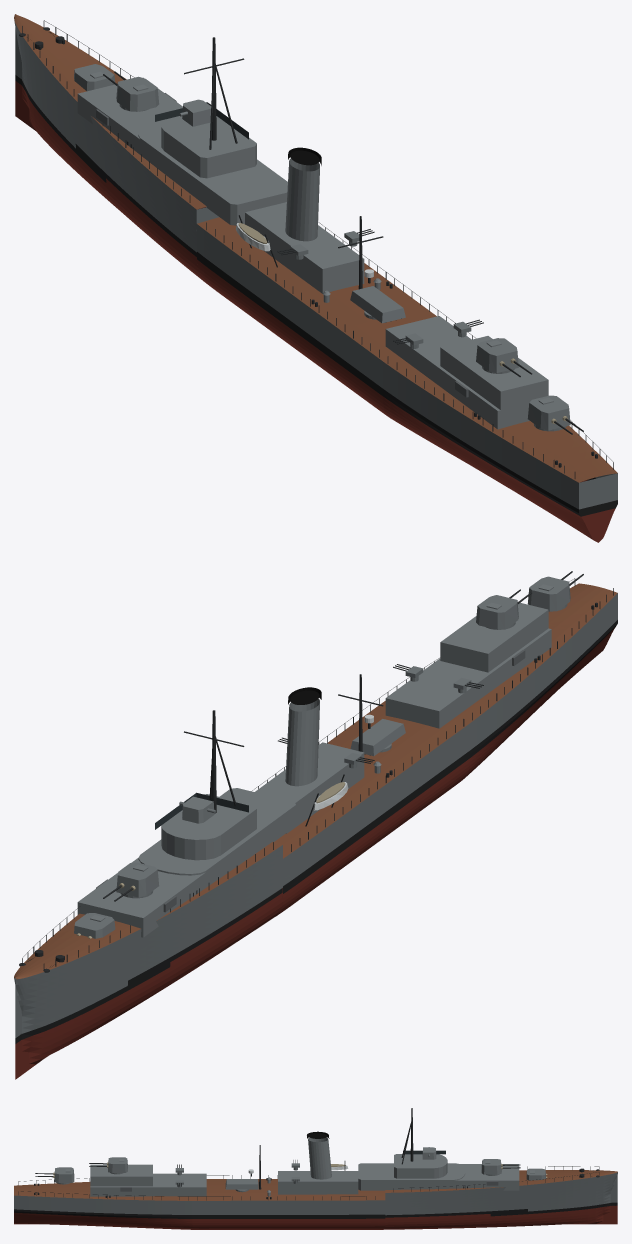
The model's file is akizuki.glb.
3 renders of one model, top to bottom at view 1: azimuth 30°, elevation 25°; view 2: azimuth 150°, elevation 25°; view 3: azimuth 270°, elevation 25°, orthographic. The views are drawn at different scales.
Visible parts, largest first — view 1: Hull, Mount4, Mount3, Mount2, Torpedo1, Mount1; view 2: Hull, Mount2, Mount3, Mount4, Torpedo1, Mount1, Director; view 3: Hull, Mount2, Torpedo1, Mount4, Mount3, Mount1.
Boxes of the visible parts, left/top/right/bottom form: Hull: left=14, top=14, right=617, bottom=542; Mount4: left=527, top=395, right=583, bottom=434; Mount3: left=476, top=338, right=532, bottom=377; Mount2: left=103, top=71, right=159, bottom=111; Torpedo1: left=350, top=286, right=405, bottom=323; Mount1: left=74, top=64, right=115, bottom=91; Hull: left=14, top=578, right=617, bottom=1079; Mount2: left=103, top=862, right=159, bottom=901; Mount3: left=476, top=589, right=531, bottom=629; Mount4: left=527, top=571, right=583, bottom=611; Torpedo1: left=350, top=719, right=405, bottom=756; Mount1: left=74, top=913, right=115, bottom=938; Director: left=179, top=796, right=215, bottom=823; Hull: left=14, top=1108, right=617, bottom=1229; Mount2: left=481, top=1159, right=520, bottom=1175; Torpedo1: left=225, top=1179, right=258, bottom=1192; Mount4: left=35, top=1167, right=74, bottom=1184; Mount3: left=89, top=1157, right=127, bottom=1174; Mount1: left=526, top=1168, right=547, bottom=1180.
Size of the model in its own units: 12.4 by 28.6 by 135.
